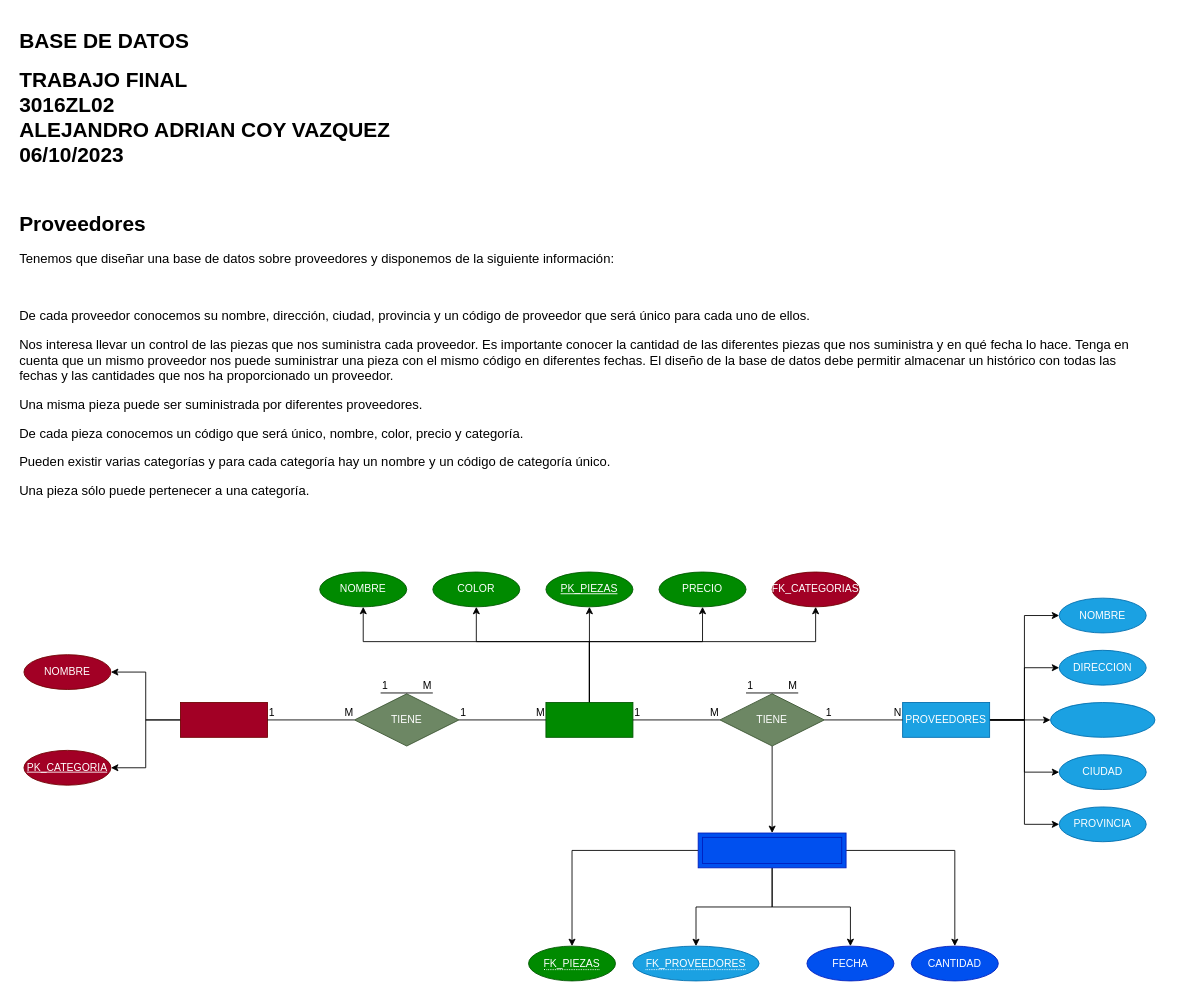
Image size: 1187x996. Some labels were removed from this diagram. The shapes that lost their labels are listed below. From the top down, each one's centre as x and y in pixels, then its label:
At point 224,719: "CATEGORIAS".
At point 589,719: "PIEZAS".
At point 1102,719: "PK_PROVEEDOR".
At point 771,850: "HISTORIAL_SUMINISTROS".
